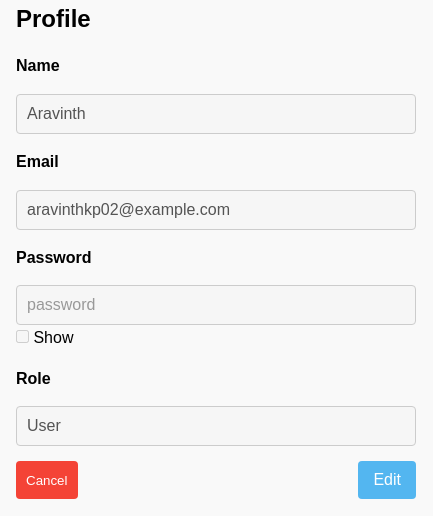
Scenario: UserProfile › cancels editing and resets form
This screenshot has width=433, height=516.
Click the button "Edit". click: (387, 480)
box: [358,461,416,499]
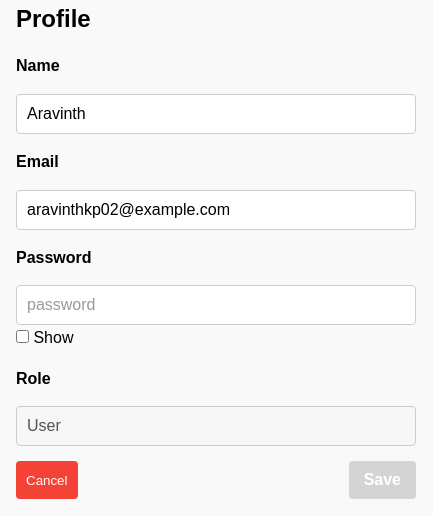
Replace the text in the 1st field with placeholder "name" with "Leo". click: (216, 114)
box: [16,94,416,134]
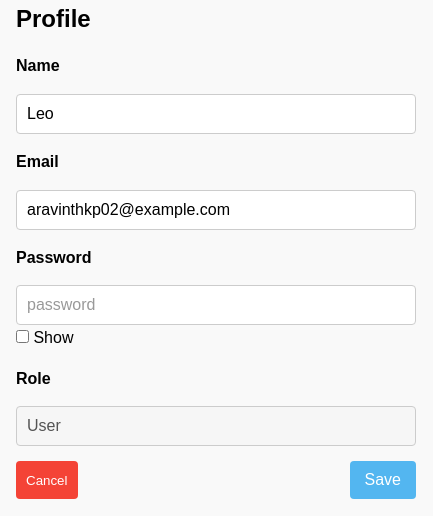
Click the button "Cancel". click: (47, 480)
box: [16,461,78,499]
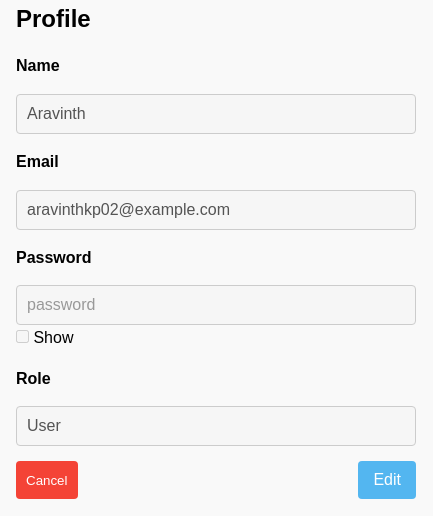
Result: the 1st field with placeholder "name" holds "Aravinth" at [16,94,416,134]
